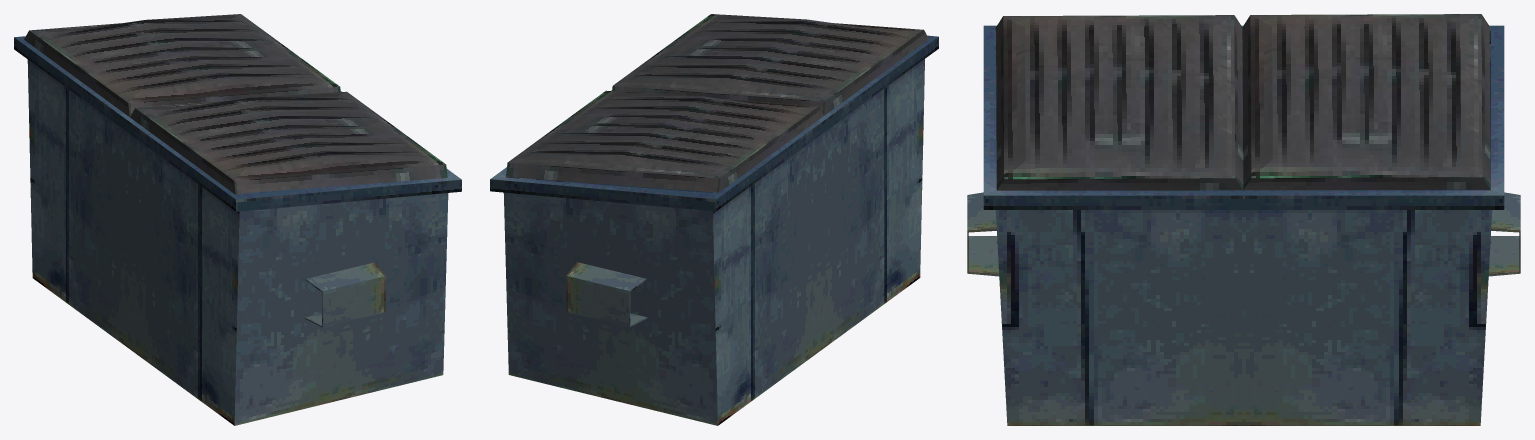
Rendered from dumpster_diagonal_closed_blue.glb.
3 views of the same model, side by side, from view 1: azimuth 30°, elevation 25°; view 2: azimuth 150°, elevation 25°; view 3: azimuth 270°, elevation 25° (orthographic). The views are drawn at different scales.
Parts seen in each view (by area): view 1: dumpster_diagonal_closed_blue; view 2: dumpster_diagonal_closed_blue; view 3: dumpster_diagonal_closed_blue.
Boxes of the visible parts, bbox=[...] form: dumpster_diagonal_closed_blue: bbox=[14, 14, 461, 425]; dumpster_diagonal_closed_blue: bbox=[490, 14, 938, 425]; dumpster_diagonal_closed_blue: bbox=[967, 14, 1520, 425].
Size of the model in its own units: 2.03 by 2.13 by 3.67.
1 material, 1 textured.
